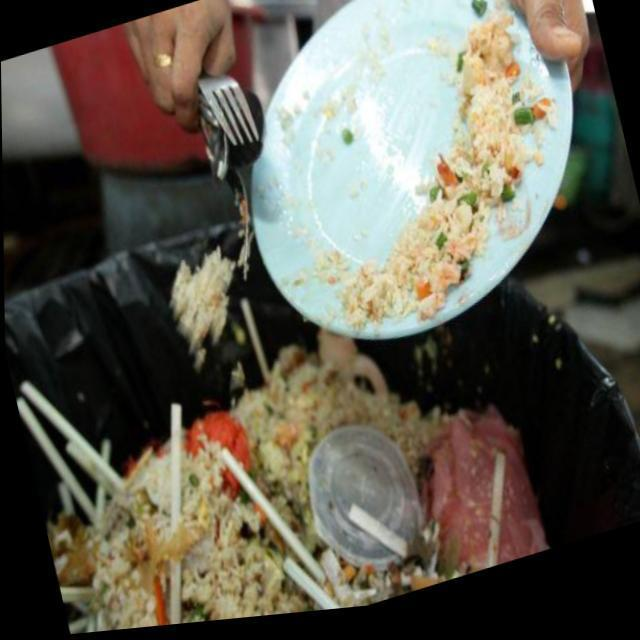Garbage: (14, 304, 544, 635), (340, 22, 553, 334)
Plastic: (307, 431, 422, 575)
Plastic_Bag: (419, 419, 544, 585)
Plastic_Straw: (220, 451, 322, 589), (345, 509, 405, 565), (281, 562, 338, 616), (238, 303, 268, 387), (484, 460, 504, 577), (319, 554, 352, 614), (168, 405, 181, 534), (168, 406, 181, 533), (168, 562, 181, 628)
